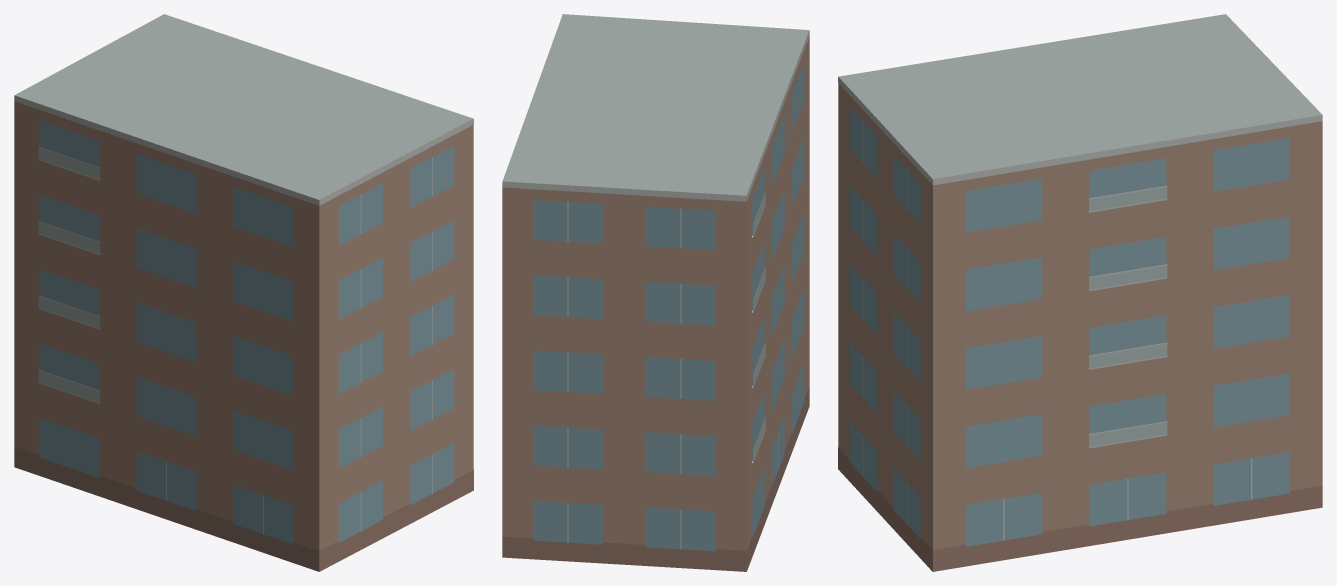
Rendered from survey-upis-33046284.glb.
The picture shows the model from 3 angles, left to right: view 1: azimuth 30°, elevation 25°; view 2: azimuth 150°, elevation 25°; view 3: azimuth 270°, elevation 25°; orthographic projection. The views are drawn at different scales.
Parts seen in each view (by area): view 1: survey-upis-33046284.tmp; view 2: survey-upis-33046284.tmp; view 3: survey-upis-33046284.tmp.
Part boxes in pixels (bbox=[...]): survey-upis-33046284.tmp: bbox=[14, 14, 473, 571]; survey-upis-33046284.tmp: bbox=[502, 14, 809, 571]; survey-upis-33046284.tmp: bbox=[838, 14, 1322, 571].
Bounding box in the file's own units: 13.91 × 15.4 × 17.23.
